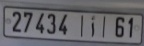1: (127, 17, 136, 38)
2: (10, 11, 22, 33)
3: (45, 12, 57, 35)
4: (57, 13, 70, 36), (35, 11, 45, 34)
6: (114, 15, 125, 39)
7: (22, 11, 35, 34)
a: (89, 15, 96, 39)
